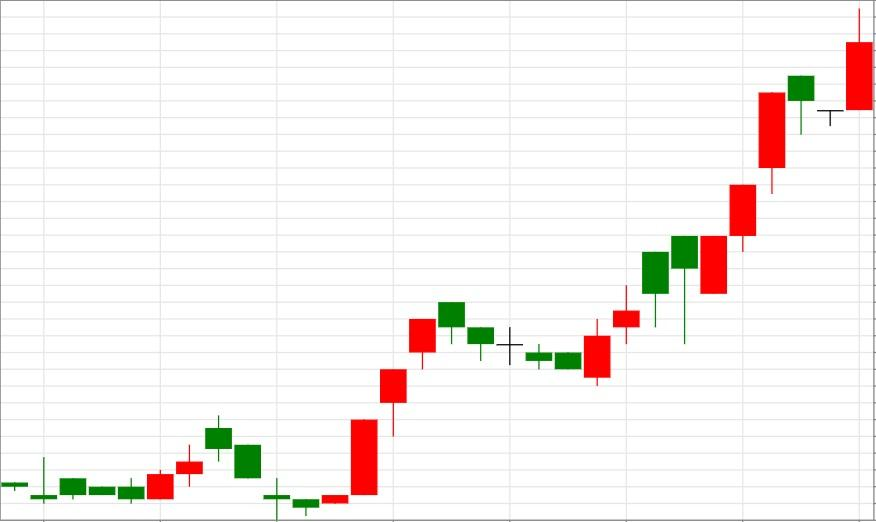bullish_engulfing_rise: (438, 301, 611, 385)
three_white_soldiers_rise: (205, 318, 437, 520)
